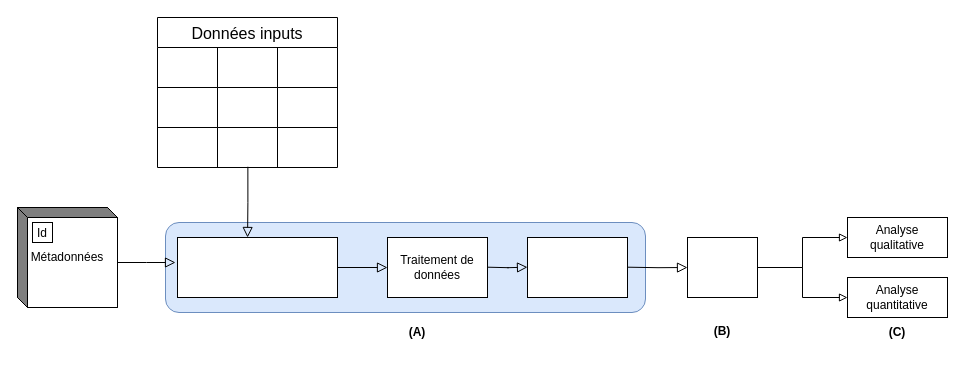
Some shapes in this 965 by 365 pixel diagram are drawn without their labels. Here are the shapes that lost their labels. From the top down, the centre of each, then its label:
At pixel 257 267: "Intégration de métadonnées".
At pixel 577 267: "Normalisation".
At pixel 722 267: "PCoA".
